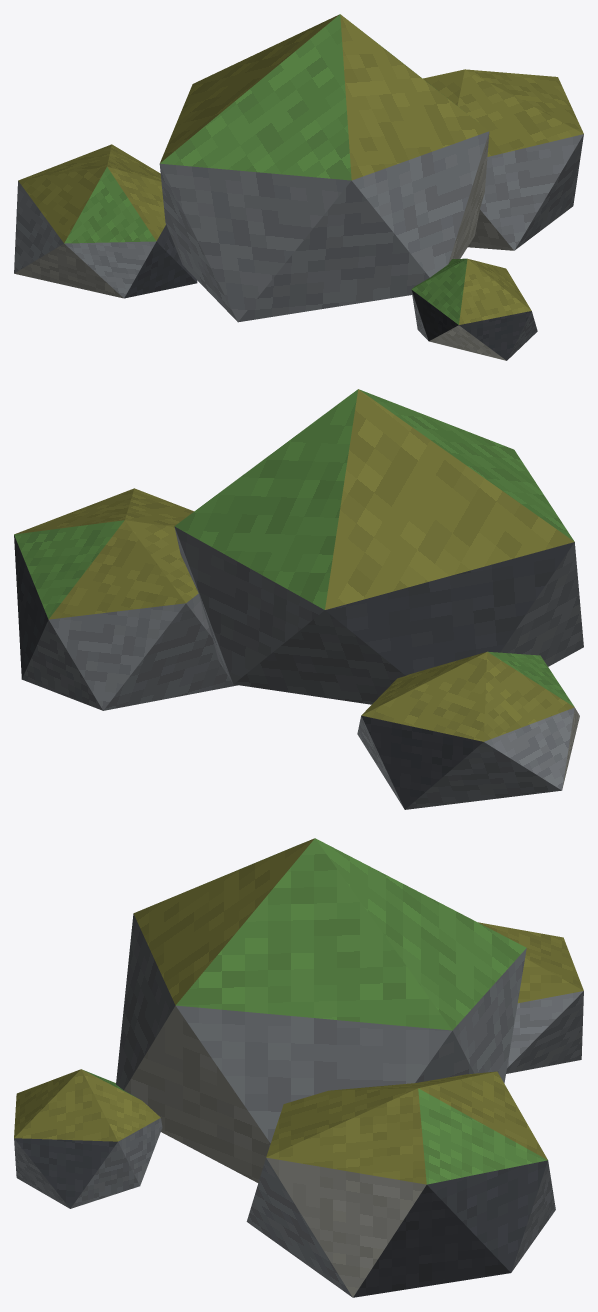
The model's file is rock_cluster.glb.
3 renders of one model, top to bottom at view 1: azimuth 30°, elevation 25°; view 2: azimuth 150°, elevation 25°; view 3: azimuth 270°, elevation 25°, orthographic. The views are drawn at different scales.
Parts seen in each view (by area): view 1: rock_cluster; view 2: rock_cluster; view 3: rock_cluster.
Boxes of the visible parts, x1=… form: rock_cluster: x1=14, y1=14, x2=583, y2=360; rock_cluster: x1=14, y1=389, x2=583, y2=809; rock_cluster: x1=14, y1=838, x2=583, y2=1297.
Bounding box in the file's own units: 2.88 × 1.4 × 2.29.
1 material, 1 textured.
